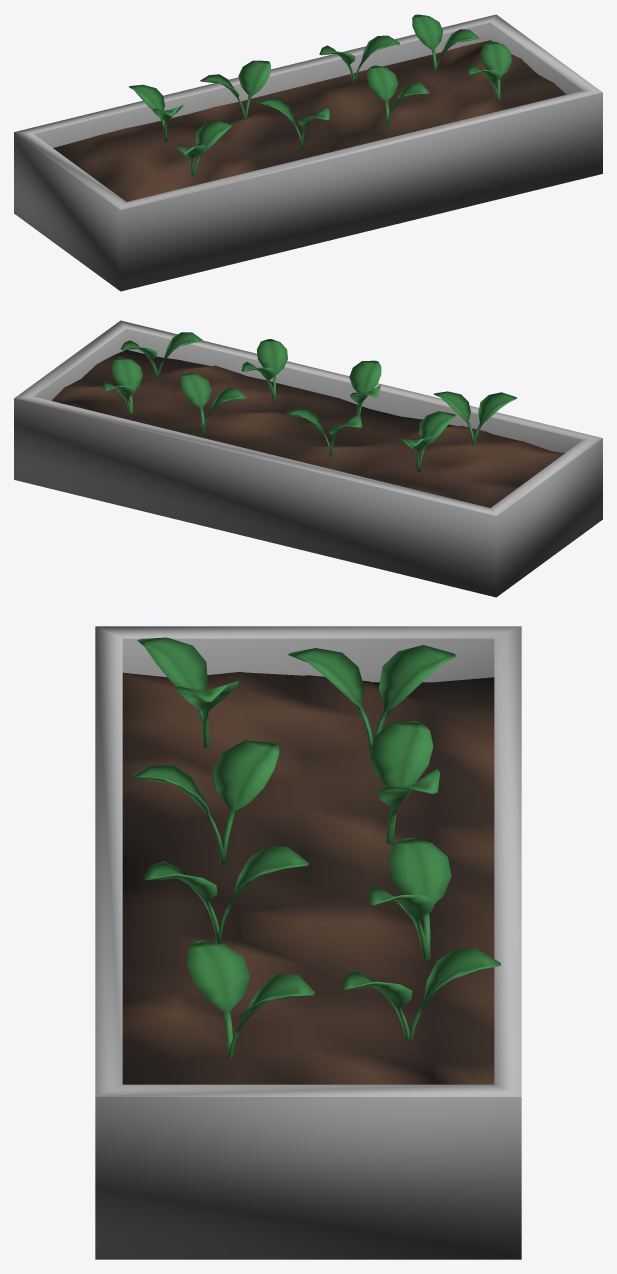
3 renders of one model, top to bottom at view 1: azimuth 30°, elevation 25°; view 2: azimuth 150°, elevation 25°; view 3: azimuth 270°, elevation 25°, orthographic. The views are drawn at different scales.
Visible parts, largest first — view 1: alt4.007; view 2: alt4.007; view 3: alt4.007.
Boxes of the visible parts, box(x1,y1,x2,y2) form: alt4.007: box(14, 14, 602, 291); alt4.007: box(14, 320, 602, 597); alt4.007: box(95, 626, 521, 1259).
Bounding box in the file's own units: 0.5 × 0.1181 × 0.1914.
